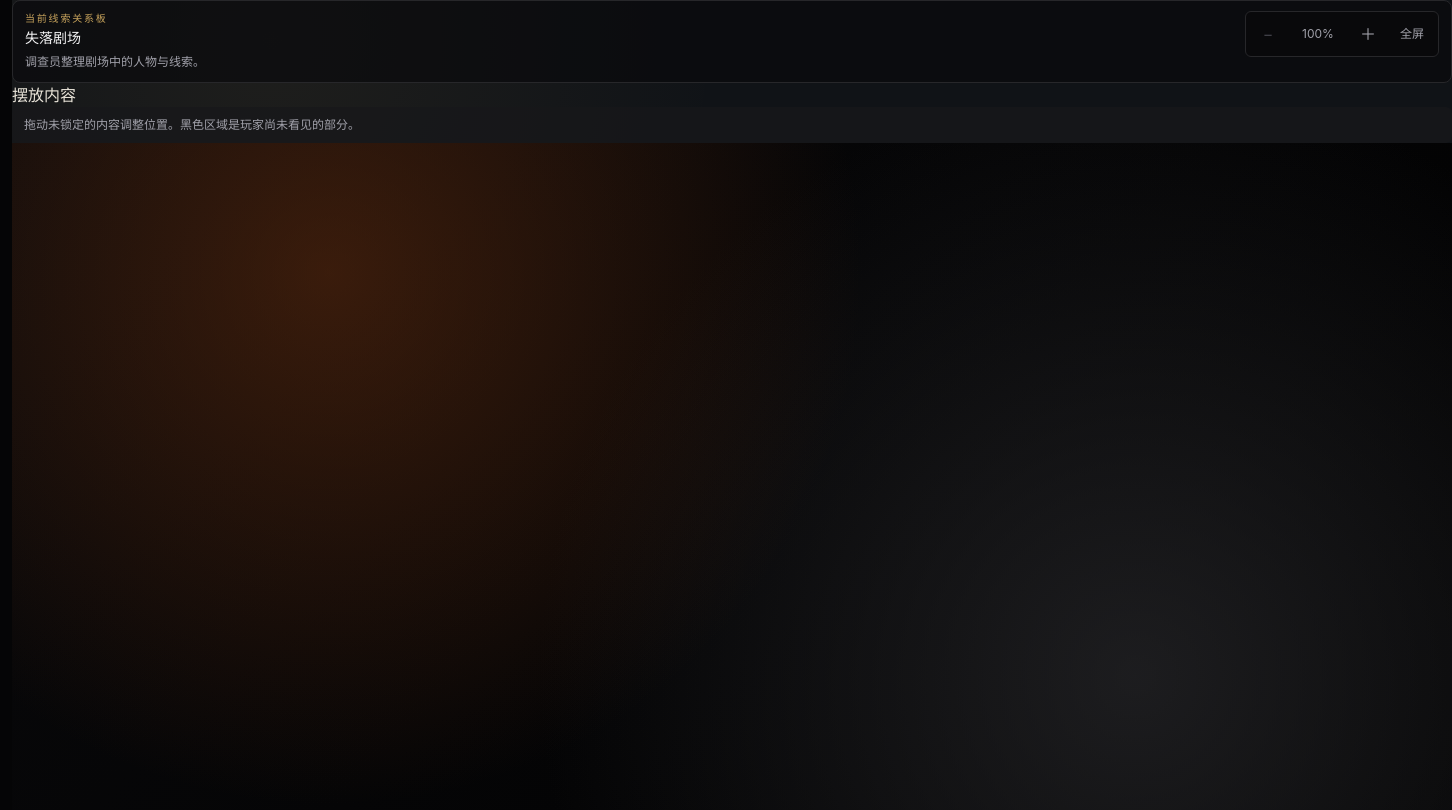
Test: CollaborativeBoardCanvas › lets people enlarge a map and return it to a fitted view
The image size is (1452, 810).
expect the button named "让画面适合窗口" reads "100%": met, box [1290,18,1346,50]
Click the button named "放大画面" at (1368, 34), box [1350,16,1386,52]
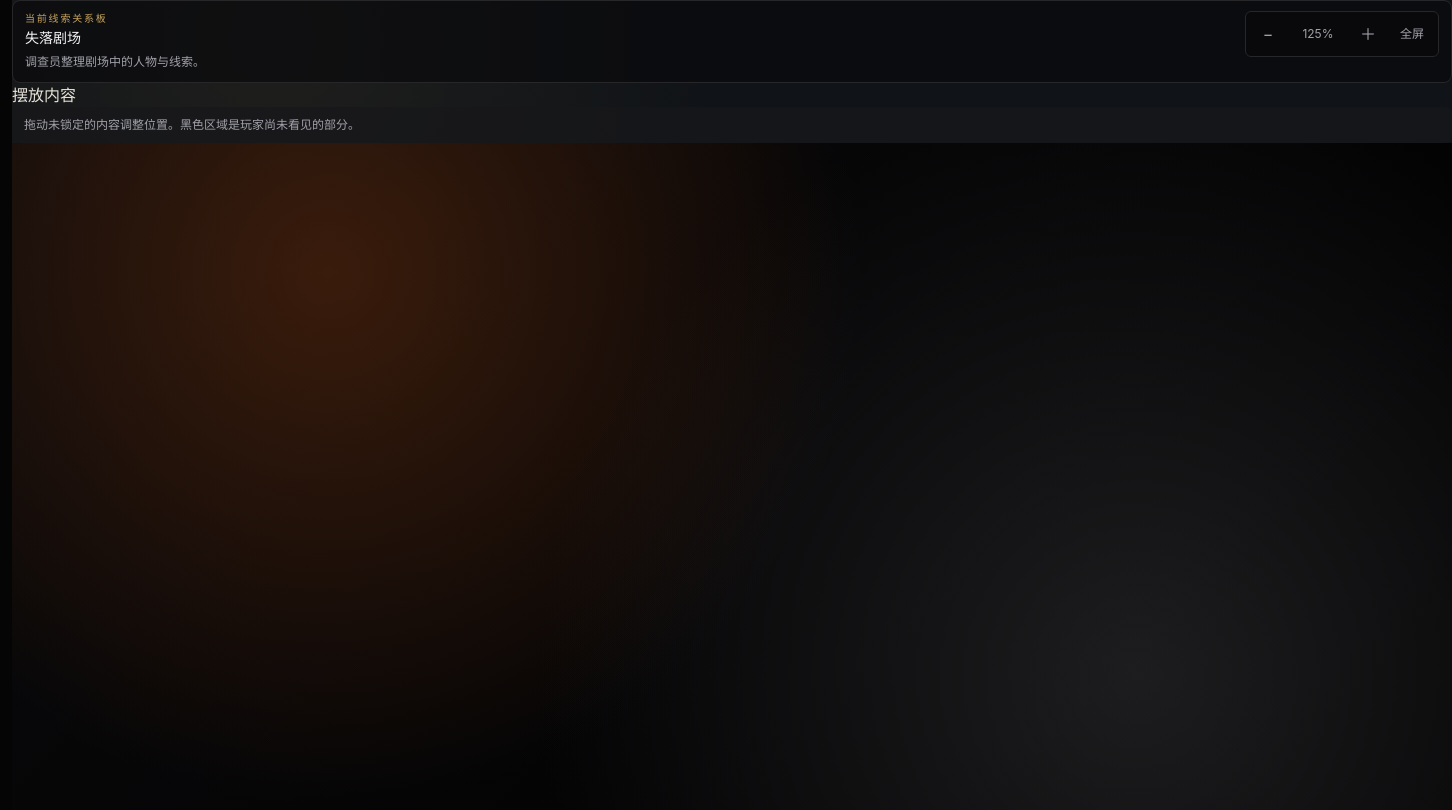
expect the button named "让画面适合窗口" reads "125%": met
Click the button named "让画面适合窗口" at (1318, 34), box [1290,18,1346,50]
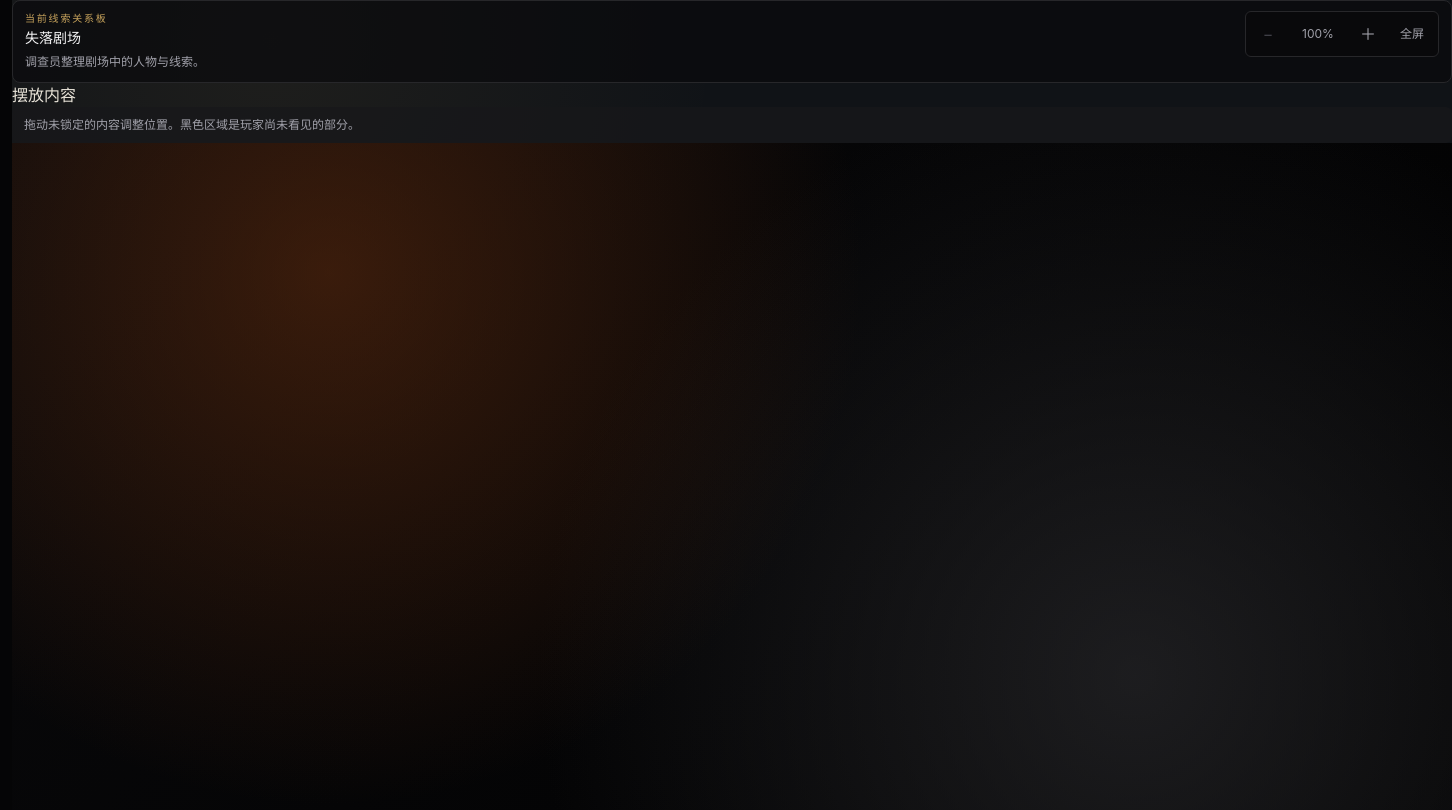
expect the button named "让画面适合窗口" reads "100%": met, box [1290,18,1346,50]
